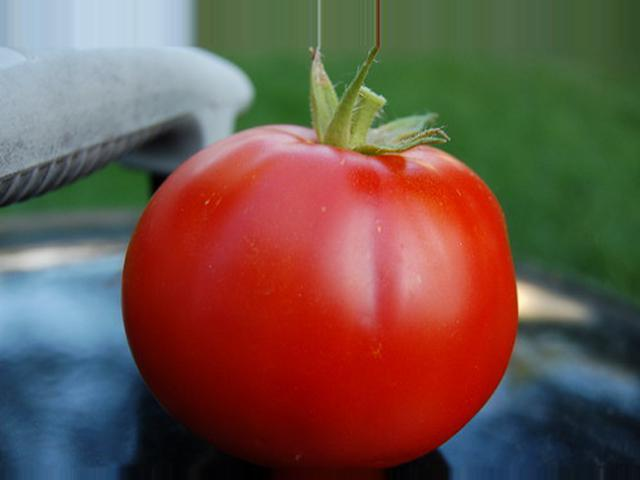tomato: (121, 124, 518, 470)
